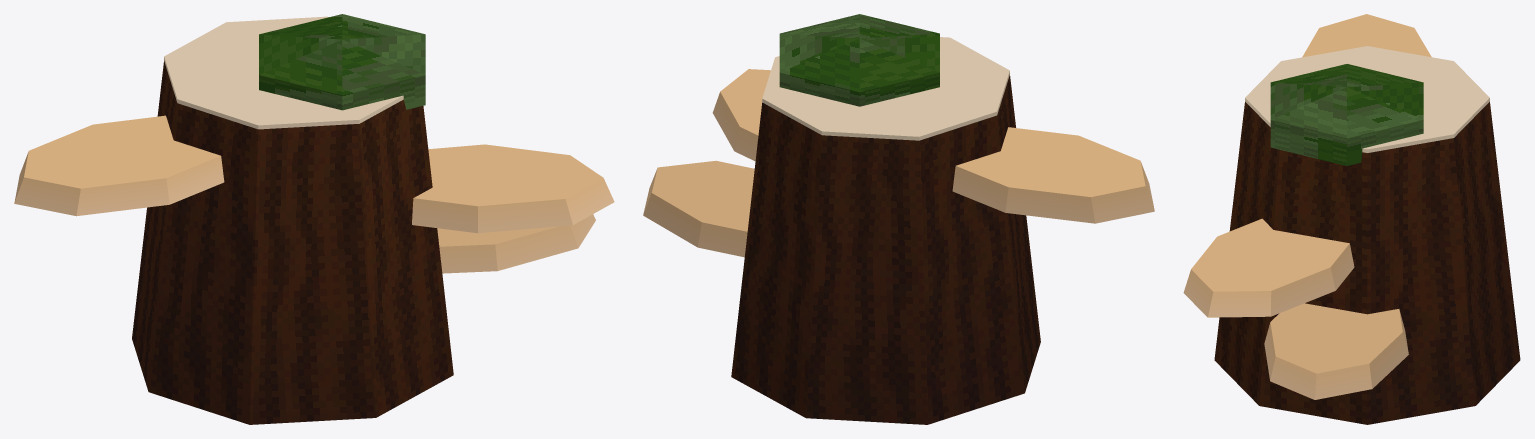
File: shelf_stump.glb
3 views of the same model, side by side, from view 1: azimuth 30°, elevation 25°; view 2: azimuth 150°, elevation 25°; view 3: azimuth 270°, elevation 25° (orthographic). The views are drawn at different scales.
Parts seen in each view (by area): view 1: shelf_stump; view 2: shelf_stump; view 3: shelf_stump.
Part boxes in pixels (x1,y1,x2,y2): shelf_stump: (14,14,614,424); shelf_stump: (643,14,1154,424); shelf_stump: (1183,14,1520,424).
Bounding box in the file's own units: 2.88 × 1.57 × 1.65.
Materials: 3 (2 with a texture image).
